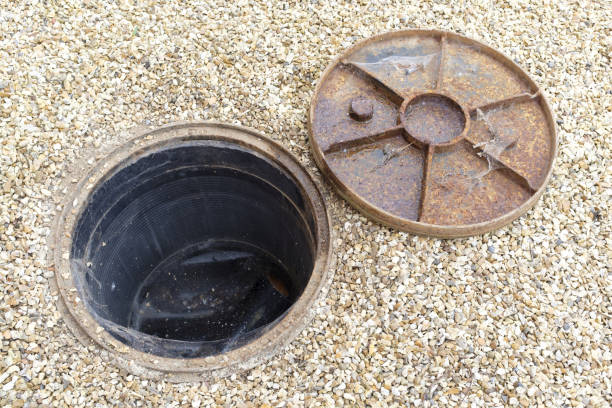open_manhole: (53, 135, 332, 372)
